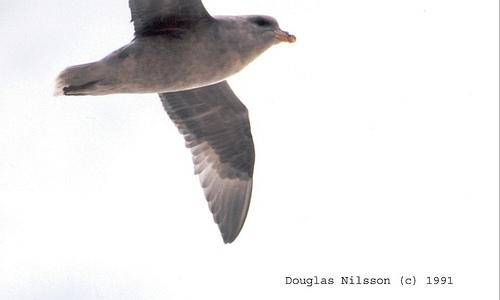bird: (45, 2, 298, 244)
